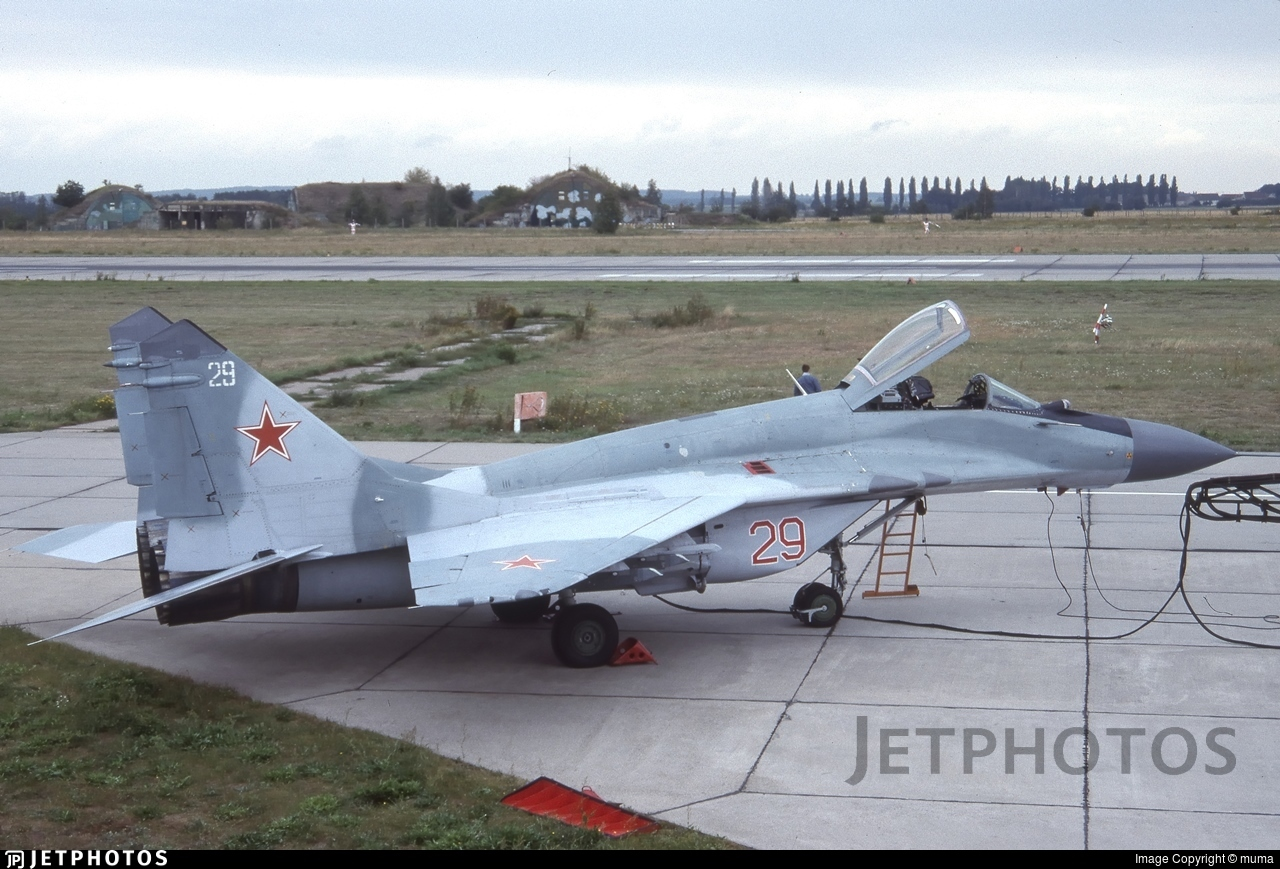Mig-29: (44, 253, 1247, 675)
